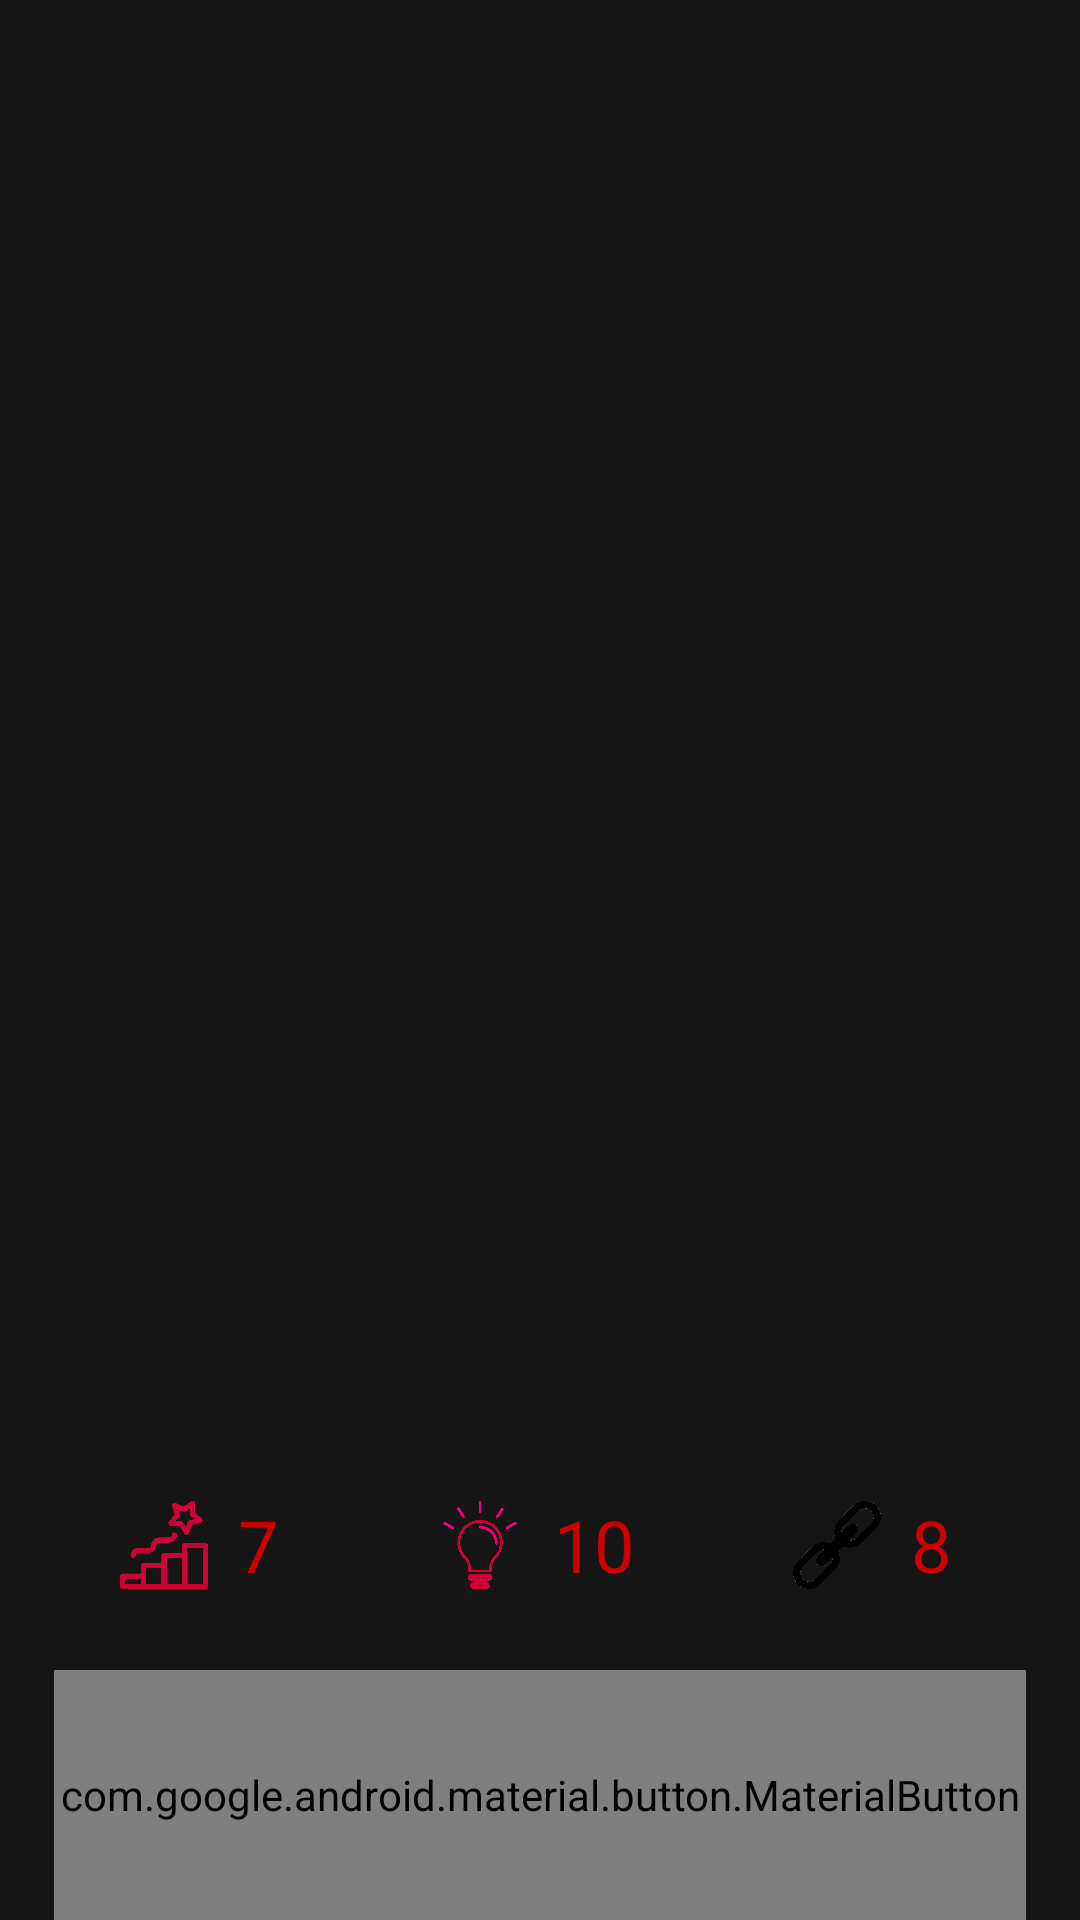

Point at icon controls on the screen. Image size 1080×1920, points as point (x, y).
bulb: point (480, 1545)
popularity: point (164, 1545)
